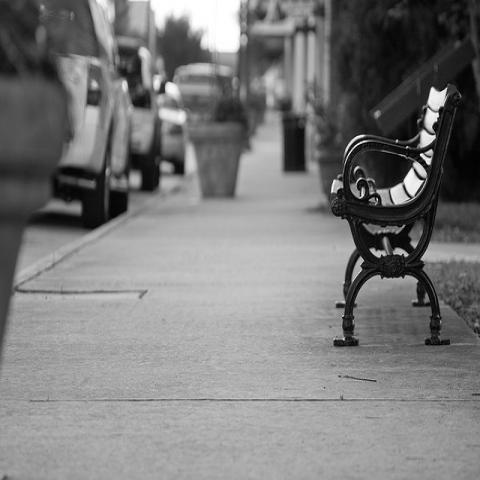car: (28, 1, 134, 229), (113, 35, 164, 191), (173, 66, 232, 122), (160, 76, 186, 178)
